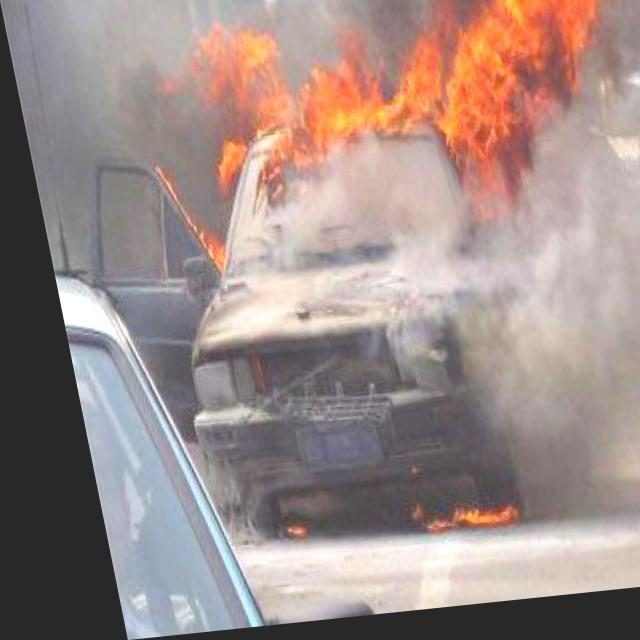Fire: (141, 0, 639, 264), (382, 481, 499, 543), (258, 516, 294, 546)
